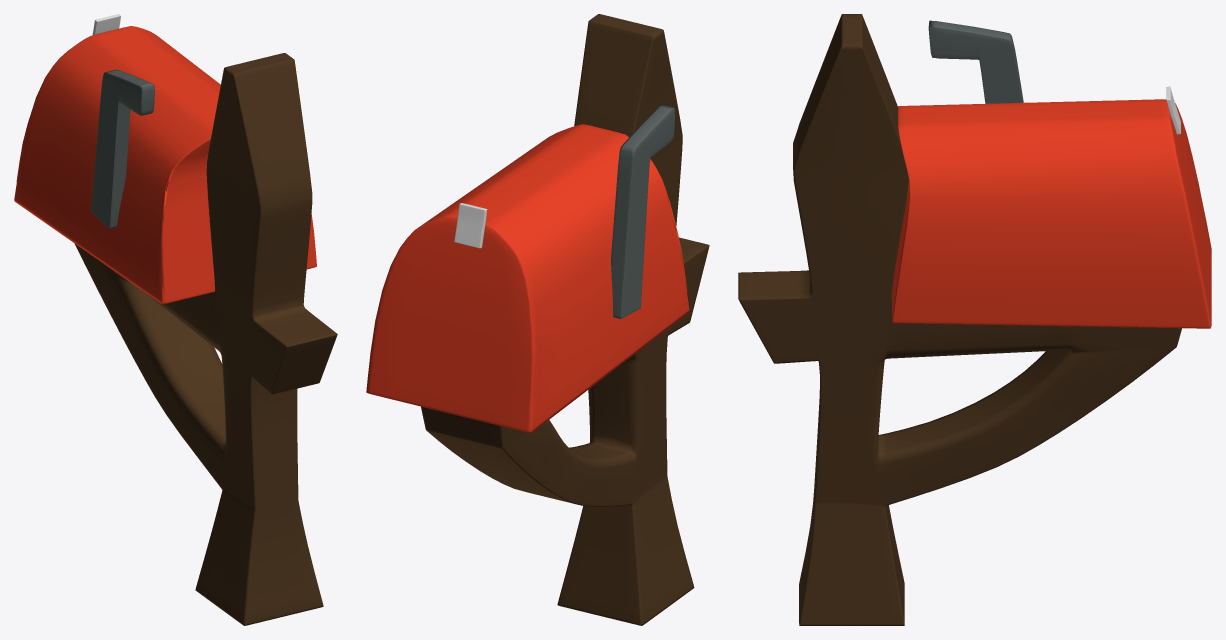
File: temp_mailbox.fbx
3 renders of one model, left to right at view 1: azimuth 30°, elevation 25°; view 2: azimuth 150°, elevation 25°; view 3: azimuth 270°, elevation 25°, orthographic. The views are drawn at different scales.
Visible parts, largest first — view 1: 2_MailboxStand, 1_Mailbox, 4_MailboxFlag; view 2: 1_Mailbox, 2_MailboxStand, 4_MailboxFlag, 3_MailboxLid; view 3: 2_MailboxStand, 1_Mailbox, 4_MailboxFlag.
Part boxes in pixels (<box>): 2_MailboxStand: <box>74,53,337,625</box>; 1_Mailbox: <box>14,26,316,304</box>; 4_MailboxFlag: <box>91,69,154,228</box>; 1_Mailbox: <box>366,124,689,432</box>; 2_MailboxStand: <box>421,14,709,625</box>; 4_MailboxFlag: <box>611,104,675,318</box>; 3_MailboxLid: <box>454,203,487,248</box>; 2_MailboxStand: <box>738,14,1181,625</box>; 1_Mailbox: <box>892,99,1211,328</box>; 4_MailboxFlag: <box>928,20,1023,103</box>.
Size of the model in its own units: 36.85 by 119 by 88.68.
